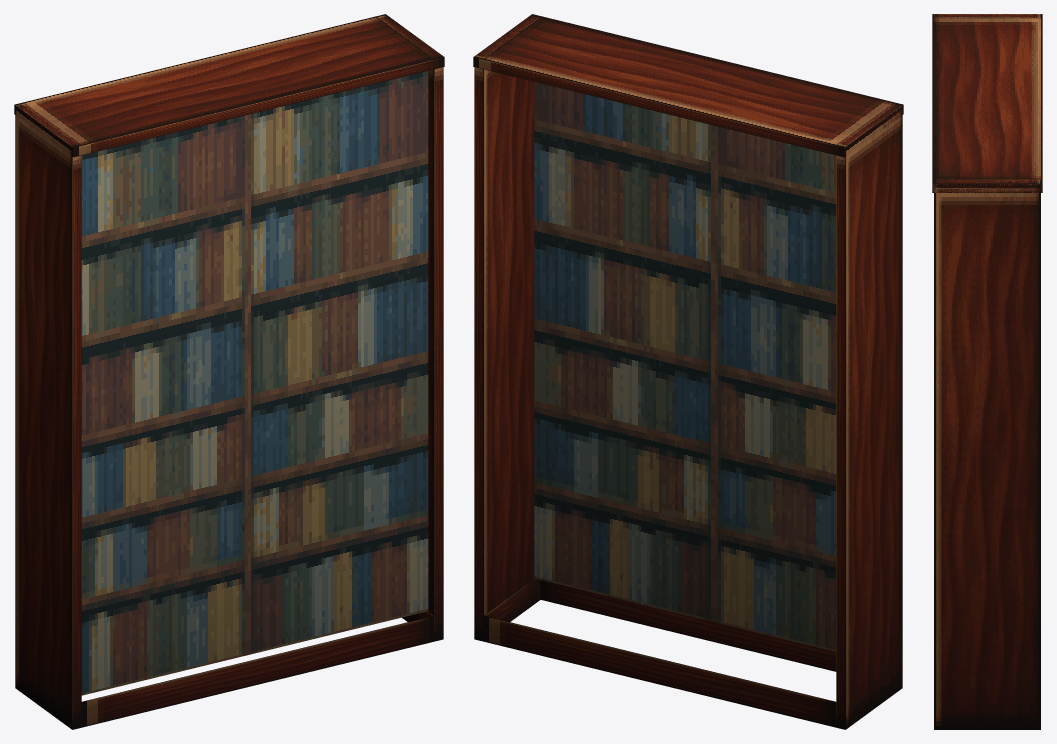
The model's file is prop_bookshelf-tall-0.glb.
3 renders of one model, left to right at view 1: azimuth 30°, elevation 25°; view 2: azimuth 150°, elevation 25°; view 3: azimuth 270°, elevation 25°, orthographic. The views are drawn at different scales.
Parts seen in each view (by area): view 1: prop_bookshelf-tall-0; view 2: prop_bookshelf-tall-0; view 3: prop_bookshelf-tall-0.
Boxes of the visible parts, box(x1,y1,x2,y2) form: prop_bookshelf-tall-0: box(14, 14, 444, 729); prop_bookshelf-tall-0: box(473, 14, 903, 729); prop_bookshelf-tall-0: box(932, 14, 1042, 729).
Bounding box in the file's own units: 1.2 × 1.8 × 0.33.
2 materials, 2 textured.
